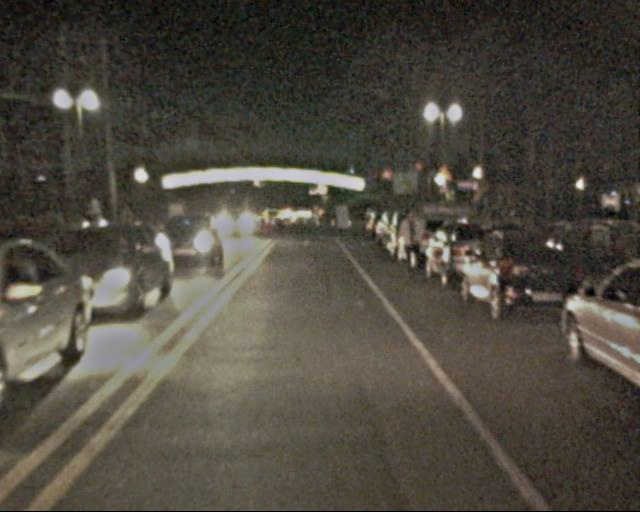person: (393, 202, 425, 279)
